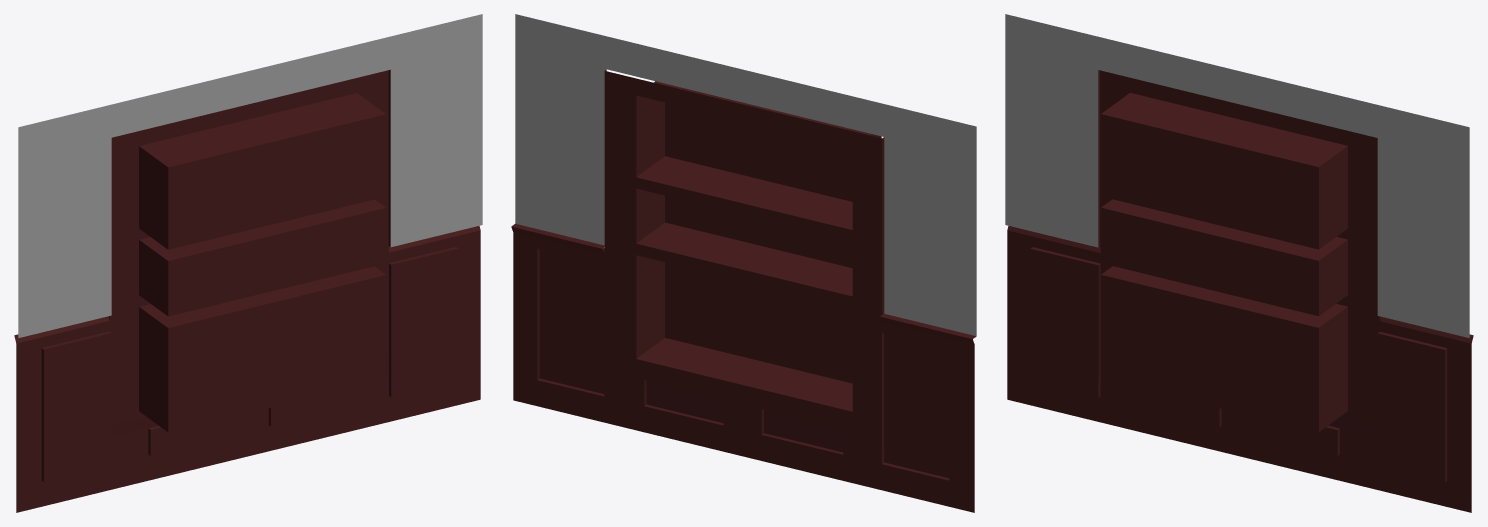
The model's file is ShelfInsert.fbx.
3 renders of one model, left to right at view 1: azimuth 30°, elevation 25°; view 2: azimuth 150°, elevation 25°; view 3: azimuth 330°, elevation 25°, orthographic.
Parts seen in each view (by area): view 1: polySurface33; view 2: polySurface33; view 3: polySurface33.
Part boxes in pixels (x1=…): polySurface33: x1=14, y1=14, x2=482, y2=512; polySurface33: x1=511, y1=14, x2=976, y2=512; polySurface33: x1=1005, y1=14, x2=1473, y2=512.
Size of the model in its own units: 4.02 by 3.2 by 0.4668.
